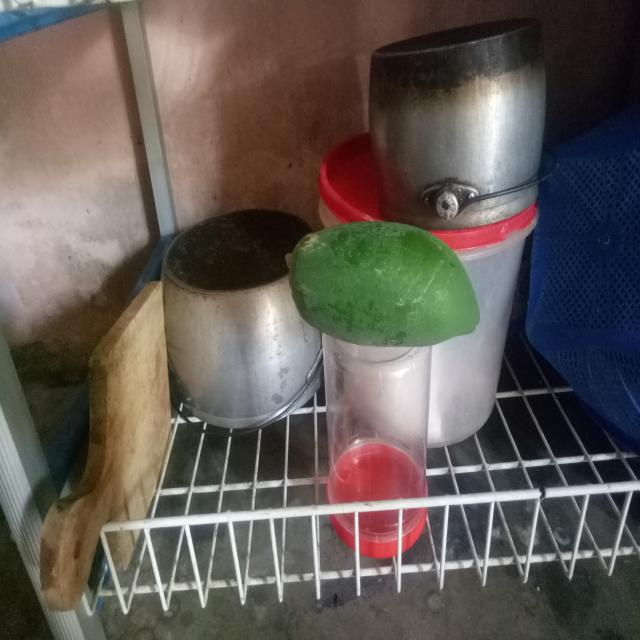Pepaya unrippen: (282, 218, 480, 358)
